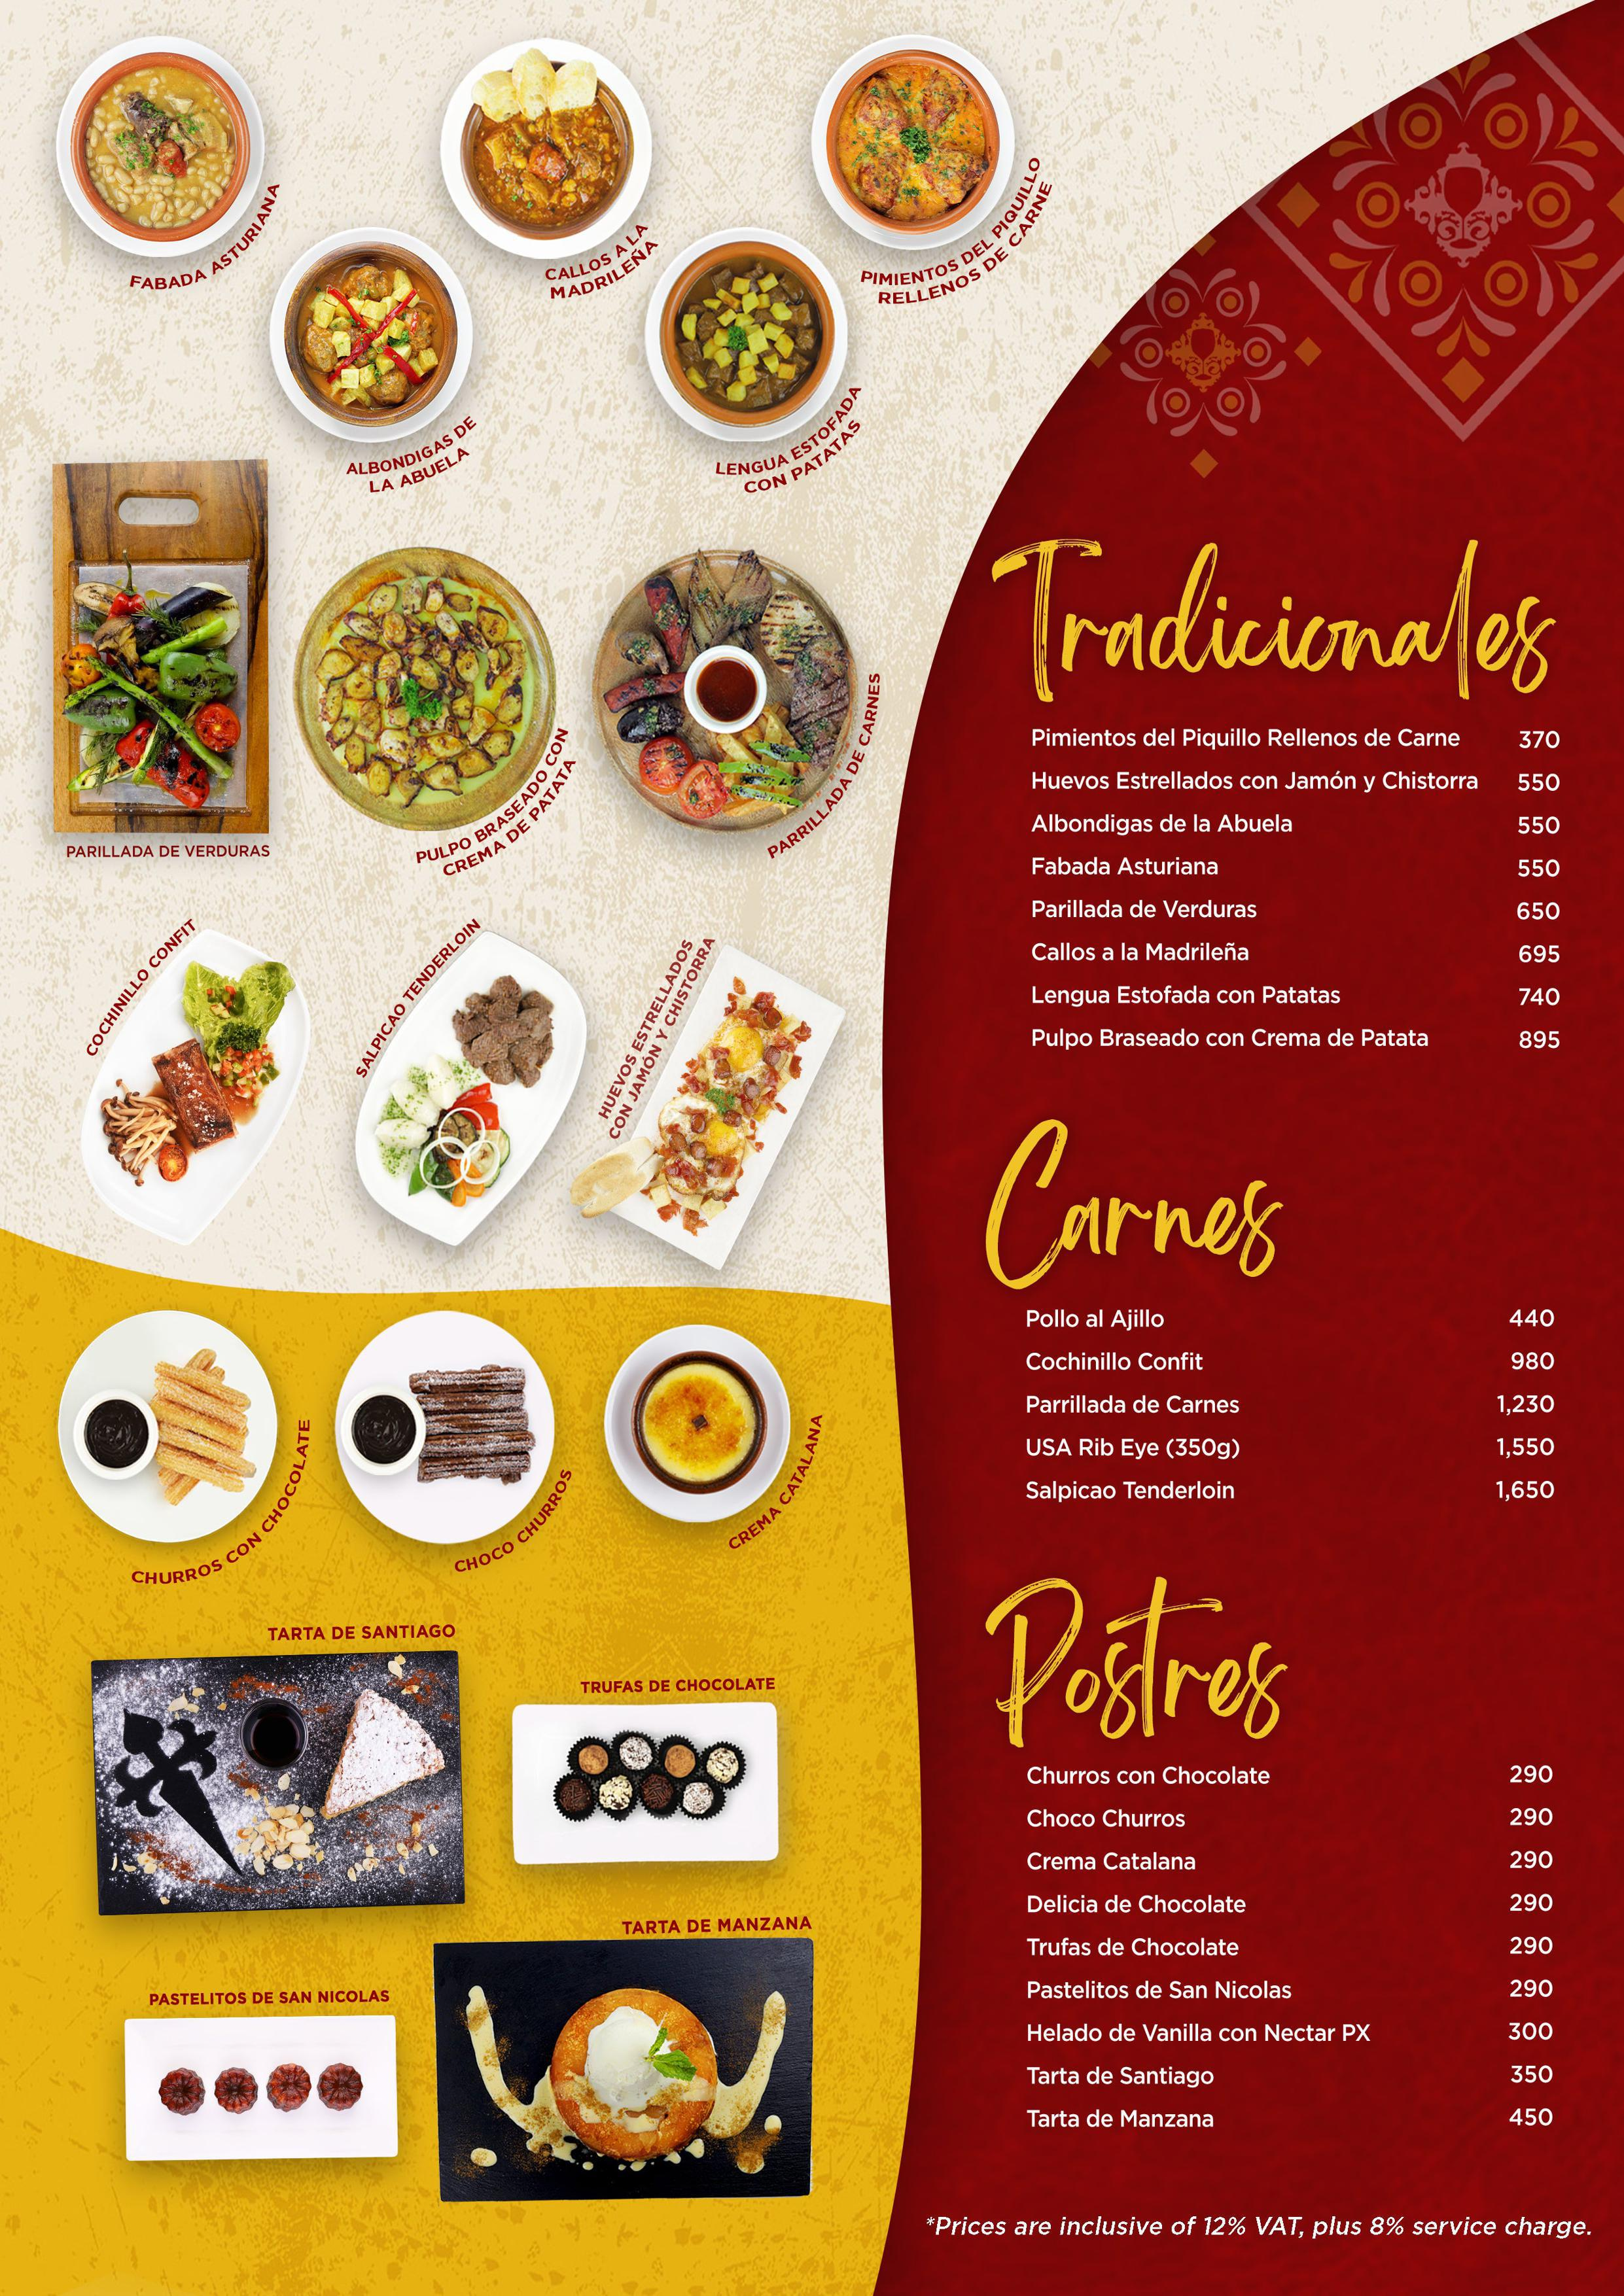item: (1026, 1887, 1562, 1924), (1028, 724, 1564, 759), (1023, 1969, 1559, 2004), (1028, 848, 1564, 880), (1028, 768, 1562, 799), (1032, 936, 1566, 968), (1026, 2105, 1559, 2136), (1028, 980, 1564, 1010), (1026, 1843, 1555, 1873), (1025, 1028, 1564, 1056), (1025, 1391, 1562, 1419), (1025, 1435, 1562, 1463), (1025, 1347, 1559, 1375), (1023, 1802, 1557, 1830), (1030, 810, 1561, 838), (1025, 1477, 1564, 1504), (1023, 2018, 1561, 2045), (1021, 1762, 1557, 1788), (1028, 898, 1562, 924), (1026, 1932, 1561, 1959), (1025, 1307, 1561, 1332), (1026, 2064, 1555, 2089)
price: (1496, 1393, 1557, 1416), (1494, 1437, 1555, 1458), (1494, 1479, 1555, 1500), (1513, 940, 1564, 964), (1510, 1349, 1559, 1374), (1506, 1845, 1554, 1869), (1517, 727, 1561, 754), (1517, 984, 1562, 1008), (1510, 1892, 1559, 1915), (1510, 2108, 1555, 2133), (1517, 857, 1562, 880), (1515, 899, 1561, 922), (1517, 812, 1559, 836), (1508, 1934, 1557, 1955), (1506, 2020, 1555, 2041), (1517, 1028, 1561, 1051), (1510, 2064, 1554, 2087), (1506, 1806, 1554, 1827), (1517, 769, 1559, 792), (1510, 1307, 1555, 1328), (1508, 1764, 1554, 1785), (1508, 1978, 1554, 1999)
tittle: (1030, 766, 1482, 796), (1030, 726, 1462, 754), (1026, 1028, 1434, 1051), (1032, 980, 1341, 1007), (1025, 2022, 1374, 2043), (1026, 1432, 1246, 1463), (1023, 1978, 1301, 2003), (1025, 1890, 1251, 1920), (1025, 1760, 1274, 1787), (1032, 812, 1299, 836), (1026, 1391, 1243, 1419), (1028, 896, 1258, 922), (1026, 2062, 1216, 2092), (1032, 938, 1253, 963), (1025, 1479, 1241, 1504), (1026, 2106, 1216, 2133), (1030, 1845, 1199, 1873), (1025, 1934, 1243, 1955), (1025, 1346, 1209, 1370), (1032, 854, 1218, 877), (1025, 1806, 1186, 1829), (1023, 1309, 1167, 1332)
